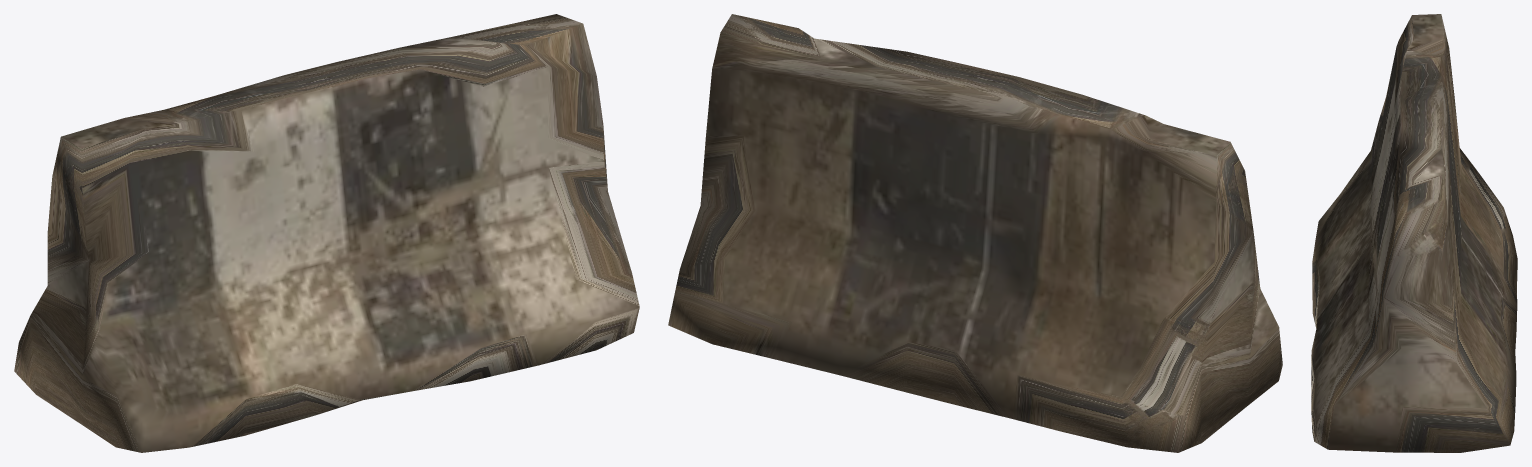
The model's file is barrier.glb.
3 renders of one model, left to right at view 1: azimuth 30°, elevation 25°; view 2: azimuth 150°, elevation 25°; view 3: azimuth 270°, elevation 25°, orthographic. The views are drawn at different scales.
Visible parts, largest first — view 1: concrete_road_barrier; view 2: concrete_road_barrier; view 3: concrete_road_barrier.
Boxes of the visible parts, x1,y1,x2,y2 form: concrete_road_barrier: (14,14,639,452); concrete_road_barrier: (668,14,1282,452); concrete_road_barrier: (1311,14,1517,452).
Size of the model in its own units: 1.54 by 0.8058 by 0.6305.
1 material, 1 textured.
